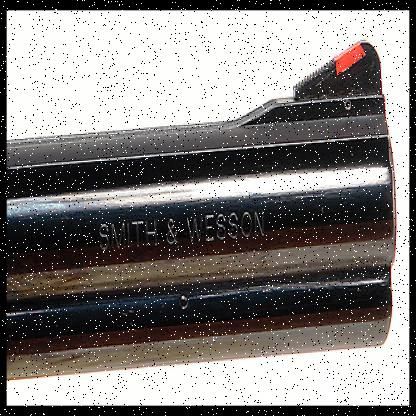pistol: (6, 37, 396, 381)
